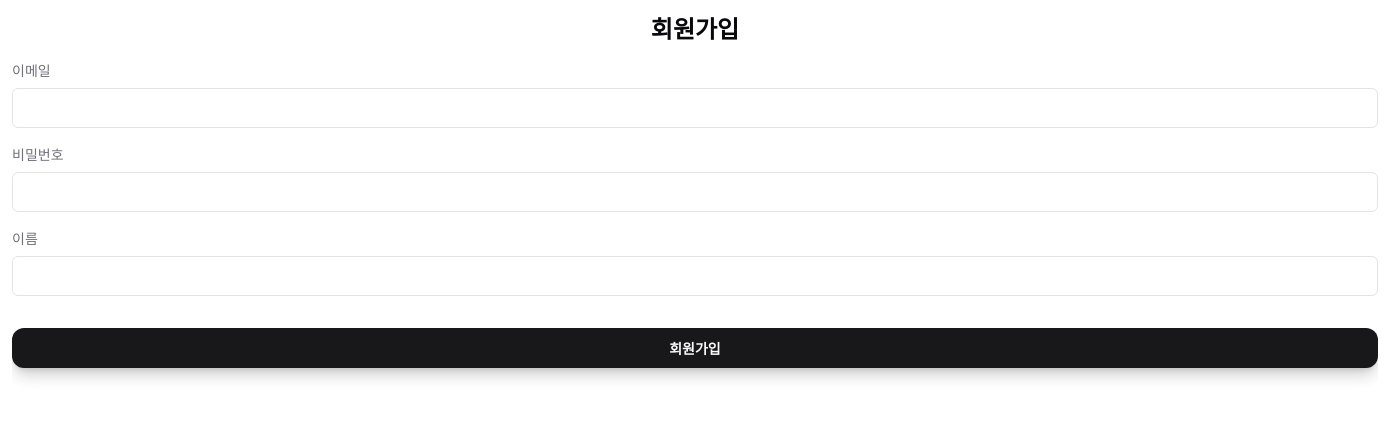
Scenario: SignUpForm › displays validation error when email is invalid
This screenshot has width=1390, height=425.
Type "invalid-email" into the field labelled "이메일". click: [695, 108]
box: [12,88,1378,128]
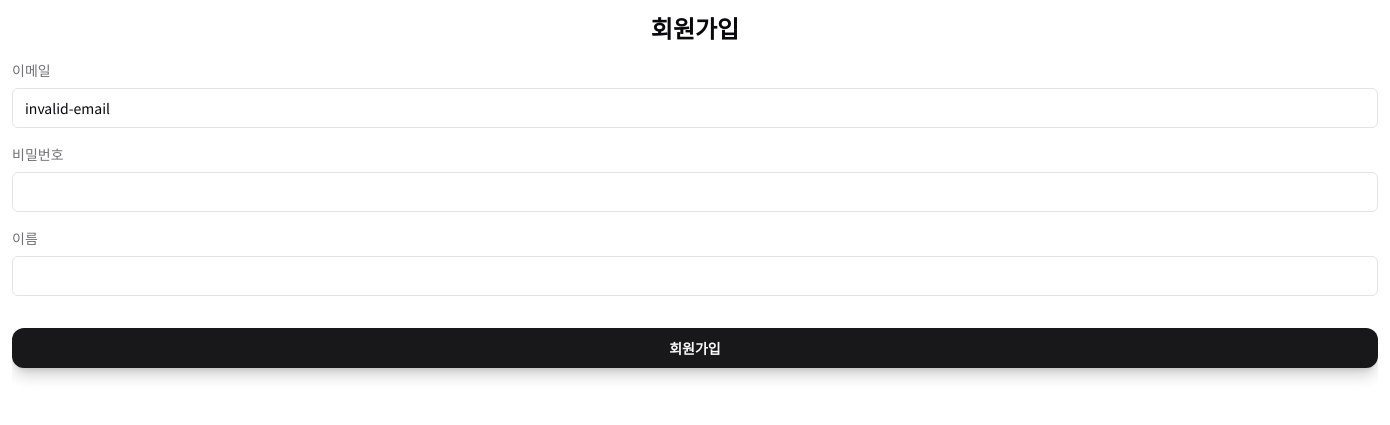
Type "password123" into the password field labelled "비밀번호". click: [695, 192]
box: [12,172,1378,212]
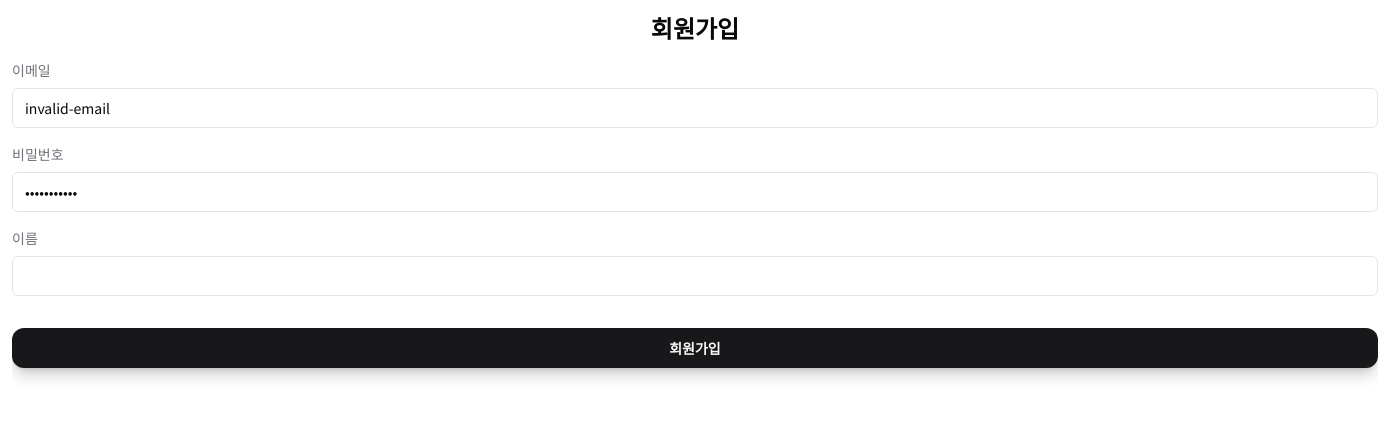
Type "홍길동" into the field labelled "이름". click: [695, 276]
box: [12,256,1378,296]
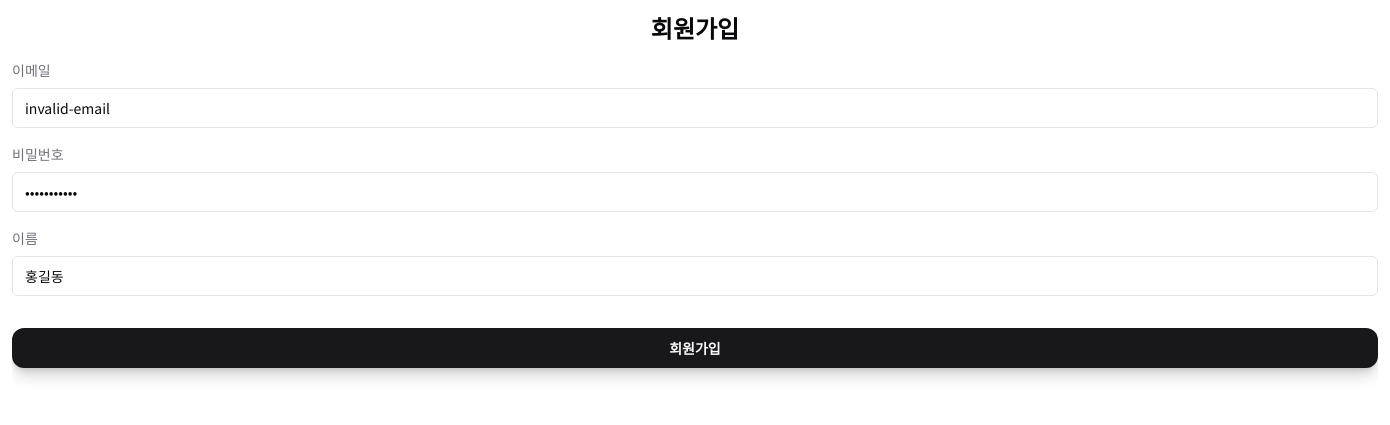
Submit the form labelled "이메일"
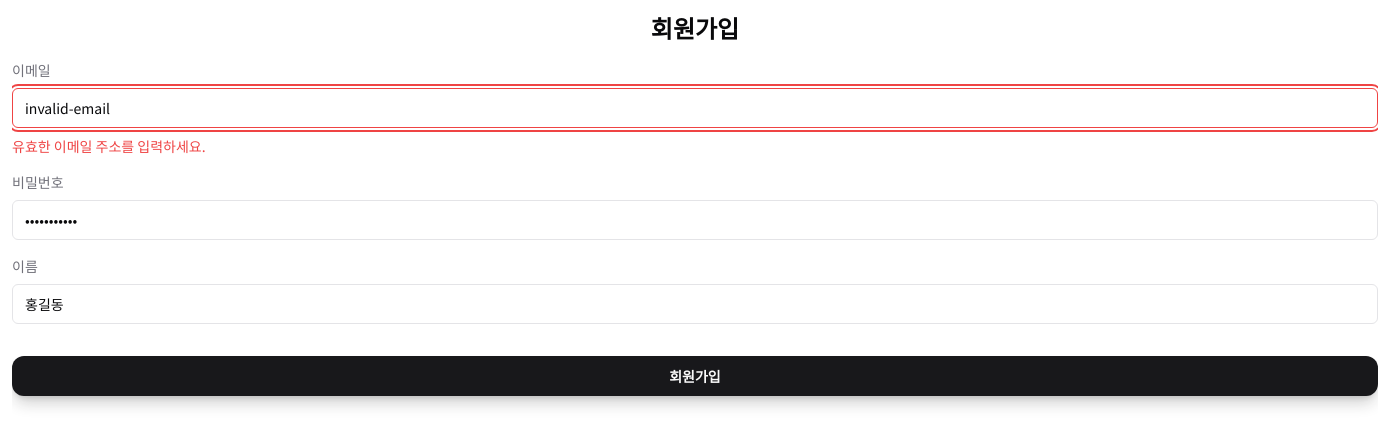
expect the text "유효한 이메일 주소를 입력하세요." is shown: met, box [12,136,206,156]
